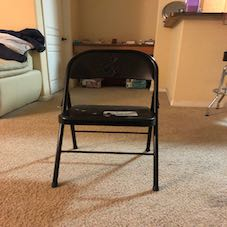chair: (19, 29, 177, 195)
